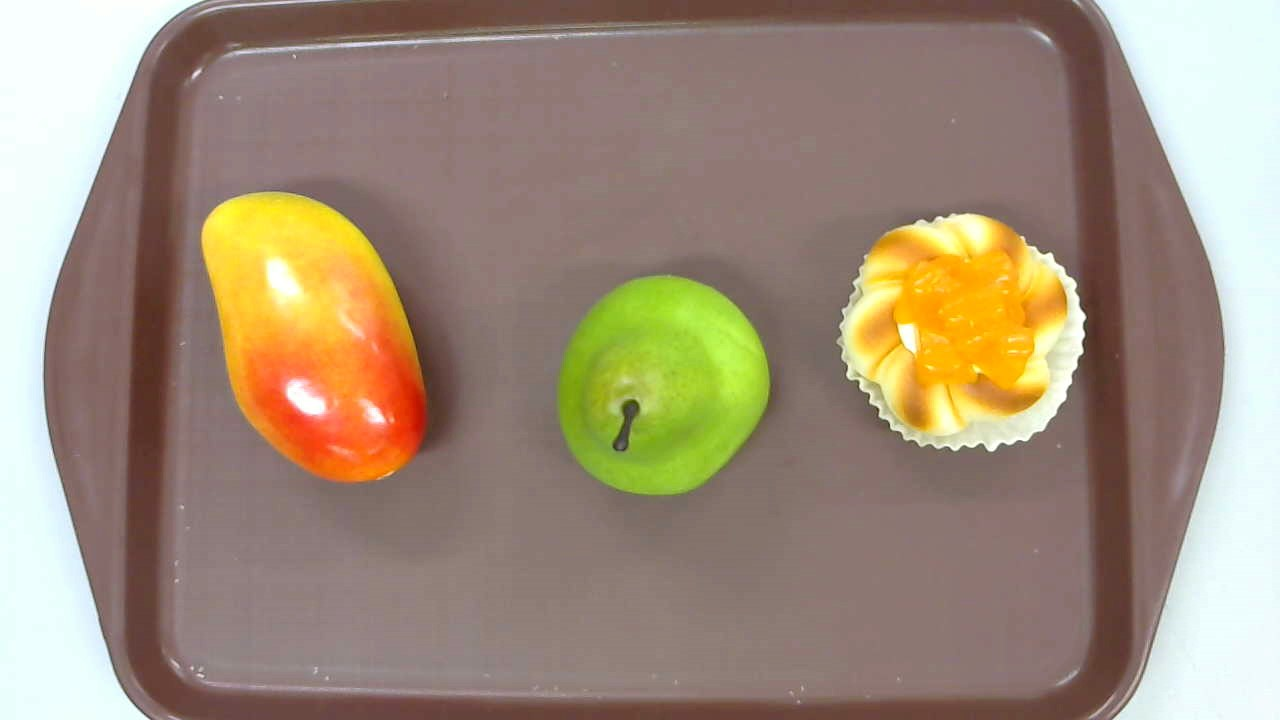green pear: (554, 272, 770, 496)
mango tart: (835, 211, 1085, 454)
red mango: (201, 190, 428, 484)
